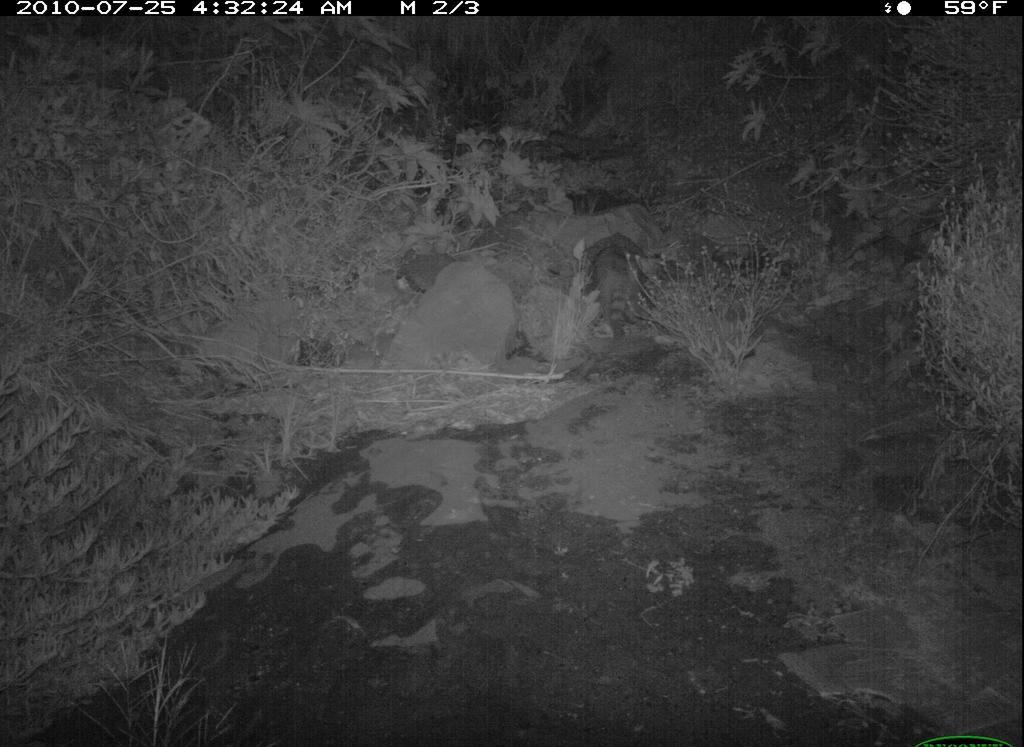raccoon: (589, 219, 667, 351)
